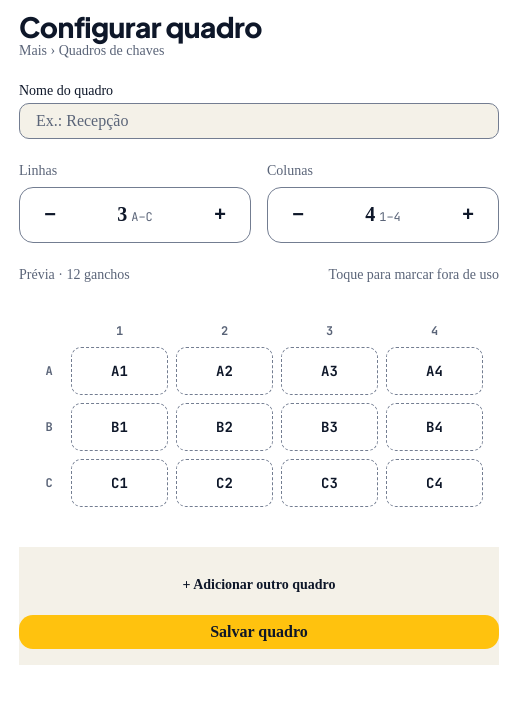
Test case: QuadroForm (criar) › nome já usado volta do servidor como erro do campo e os dados ficam
Type "Recepção" into the field labelled "Nome do quadro" at (259, 121), box [19,103,499,139]
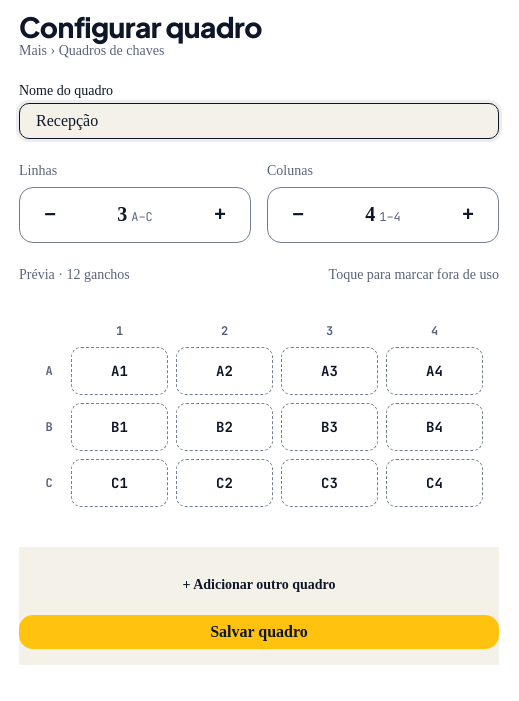
Click the button "Salvar quadro" at (259, 632), box [19,615,499,649]
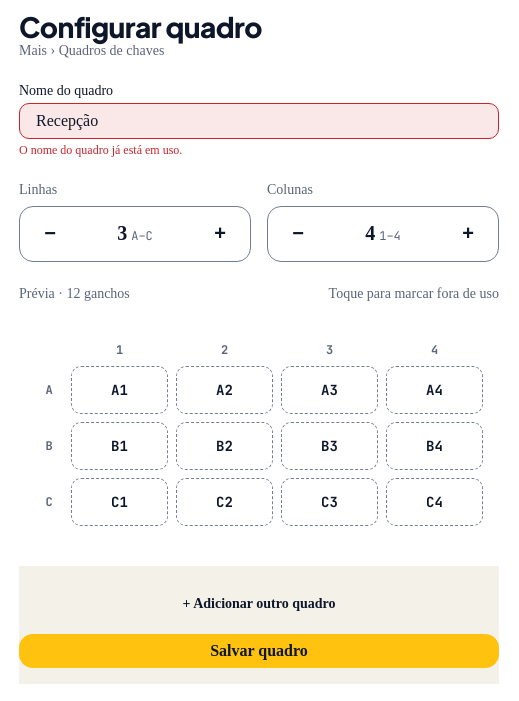
Check: the text "O nome do quadro já está em uso." is shown, box [19,143,182,157]
